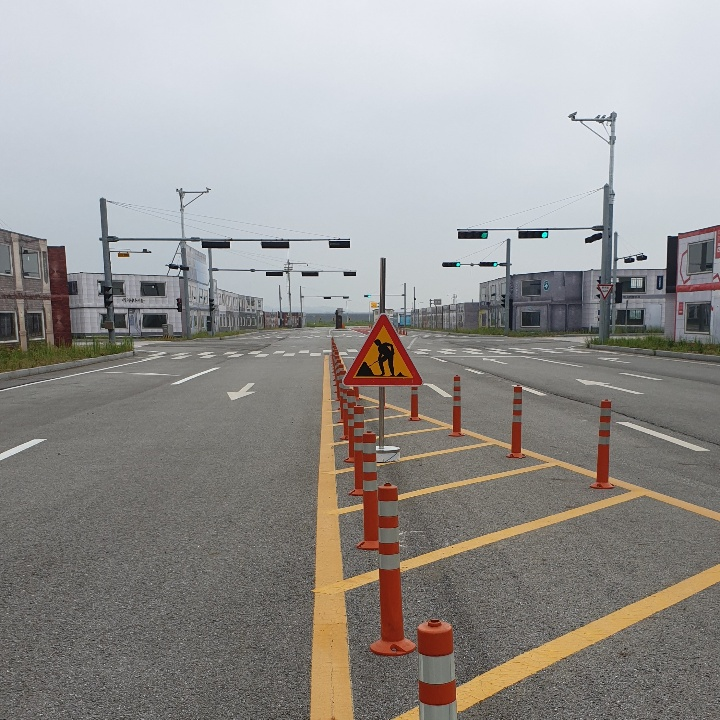const: (354, 329, 414, 379)
